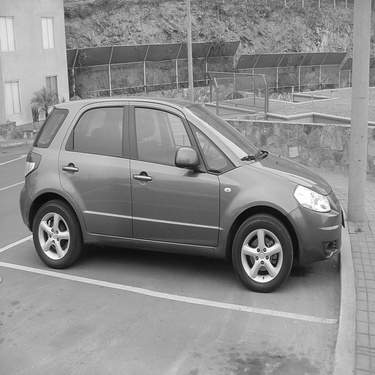car: (21, 90, 351, 297)
